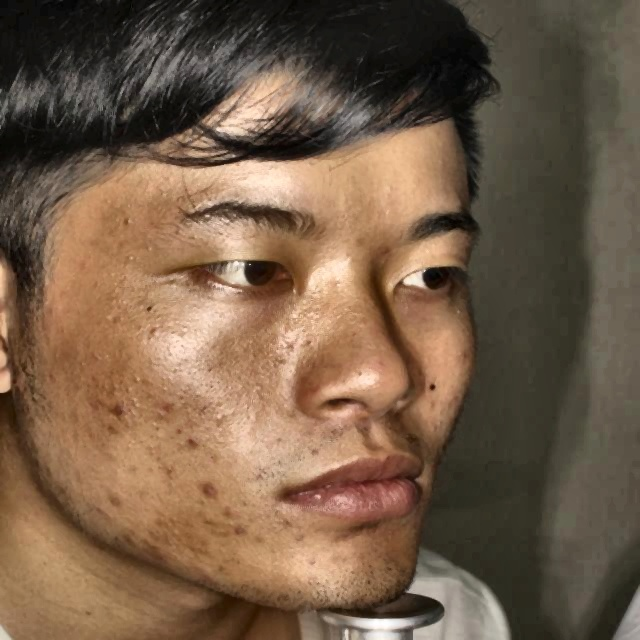pustule: (193, 469, 221, 501), (136, 536, 166, 561), (227, 518, 256, 542), (158, 393, 180, 421), (180, 434, 207, 456), (215, 499, 240, 520), (103, 418, 125, 440), (100, 398, 126, 416), (103, 485, 123, 506), (89, 502, 109, 520)
